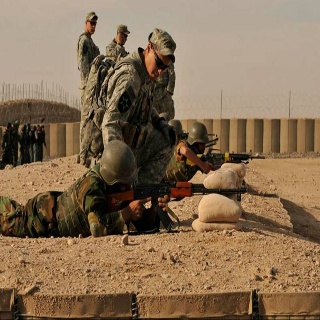rifle: (105, 178, 247, 232), (185, 150, 266, 173)
